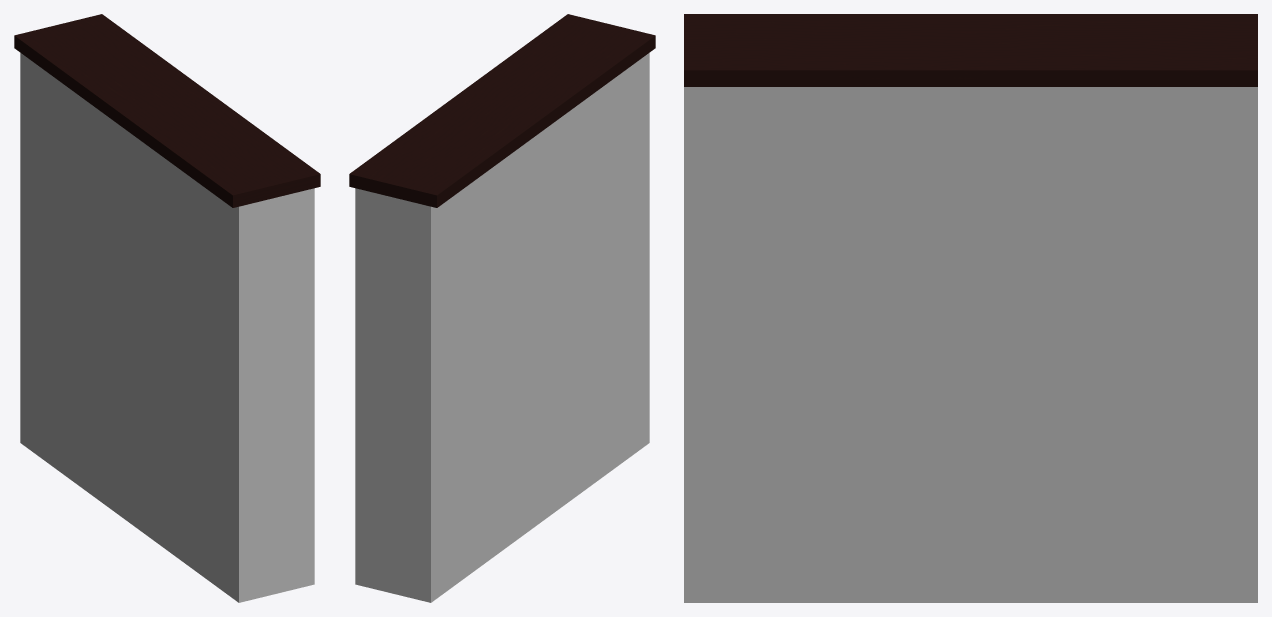
File: Small_Wall_B_07.FBX
The picture shows the model from 3 angles, left to right: view 1: azimuth 30°, elevation 25°; view 2: azimuth 150°, elevation 25°; view 3: azimuth 270°, elevation 25°; orthographic projection. The views are drawn at different scales.
Visible parts, largest first — view 1: Half_Wall_2p5m; view 2: Half_Wall_2p5m; view 3: Half_Wall_2p5m.
Boxes of the visible parts, box(x1,y1,x2,y2) form: Half_Wall_2p5m: box(14, 14, 320, 602); Half_Wall_2p5m: box(349, 14, 655, 602); Half_Wall_2p5m: box(684, 14, 1257, 602).
Size of the model in its own units: 2283 by 10157 by 9844.
